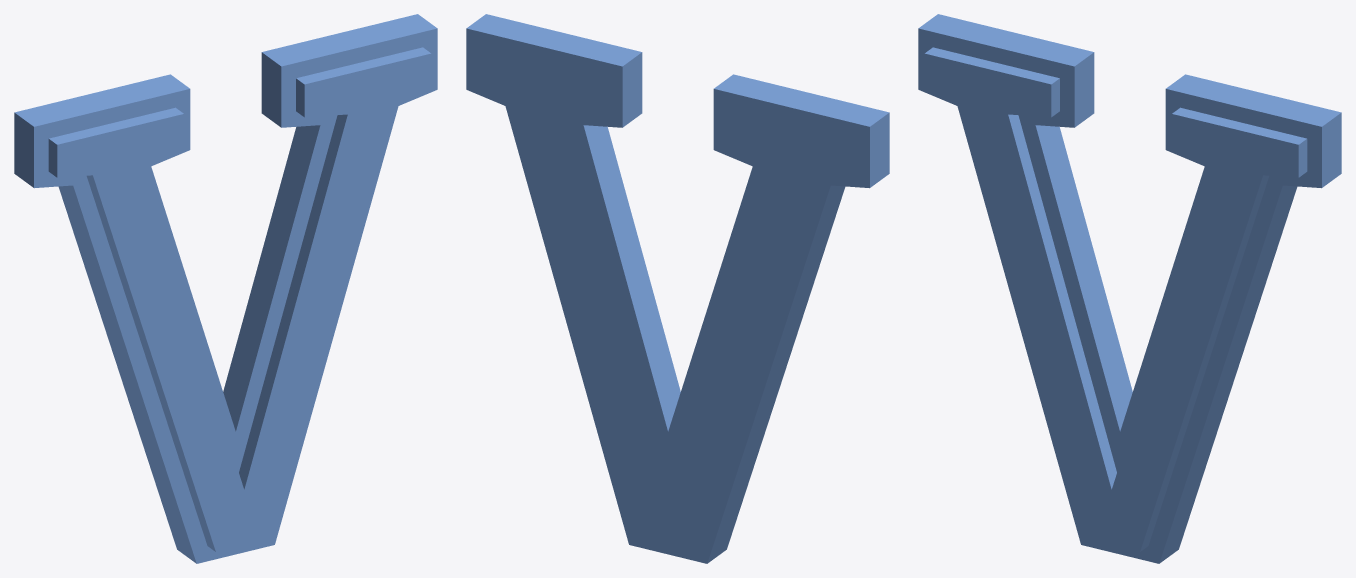
Rendered from uploads_files_2164780_V1.FBX.
3 views of the same model, side by side, from view 1: azimuth 30°, elevation 25°; view 2: azimuth 150°, elevation 25°; view 3: azimuth 330°, elevation 25° (orthographic).
Parts seen in each view (by area): view 1: V; view 2: V; view 3: V.
Boxes of the visible parts, x1,y1,x2,y2 form: V: (14, 14, 437, 563); V: (466, 14, 889, 563); V: (918, 14, 1341, 563).
Size of the model in its own units: 4.13 by 4.67 by 0.5.
